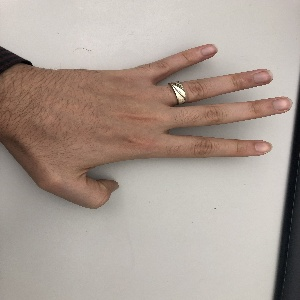hand: (41, 44, 294, 208)
